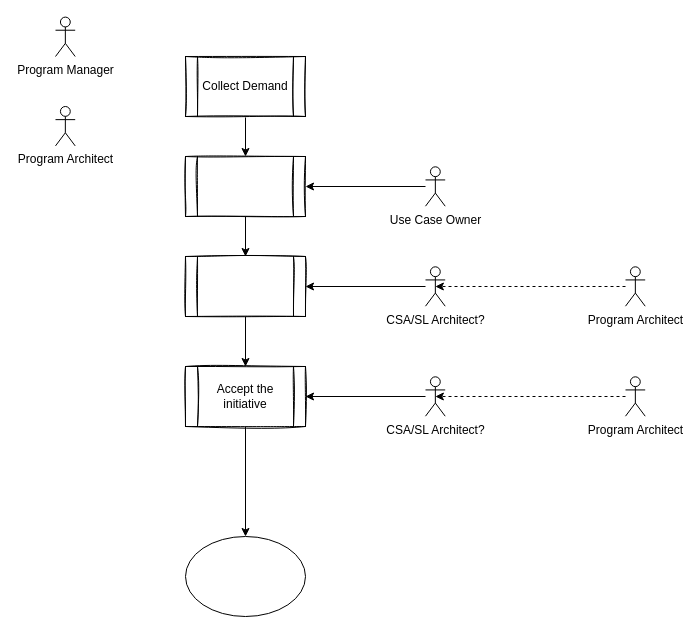
The diagram is 700 pixels wide and 635 high, and some of its shapes have lost their labels. The shapes that lost their labels are listed below. From the top down, each one's box as (x1, y1, x2, y2) in pixels, then its label:
(184, 156, 306, 216): Prepare Use Case Brief
(184, 256, 306, 316): Validate Use Case Brief
(184, 536, 306, 616): to Innovation Pipeline
